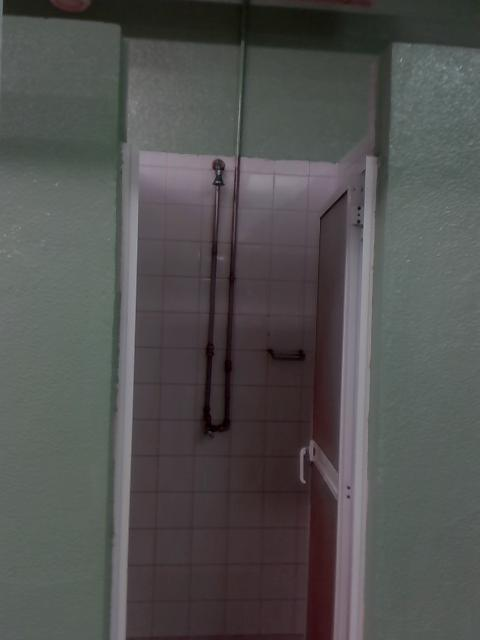open_door: (108, 137, 377, 639)
